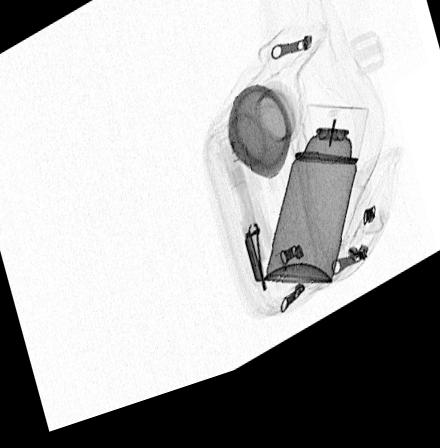Sprayer: (262, 121, 370, 305)
